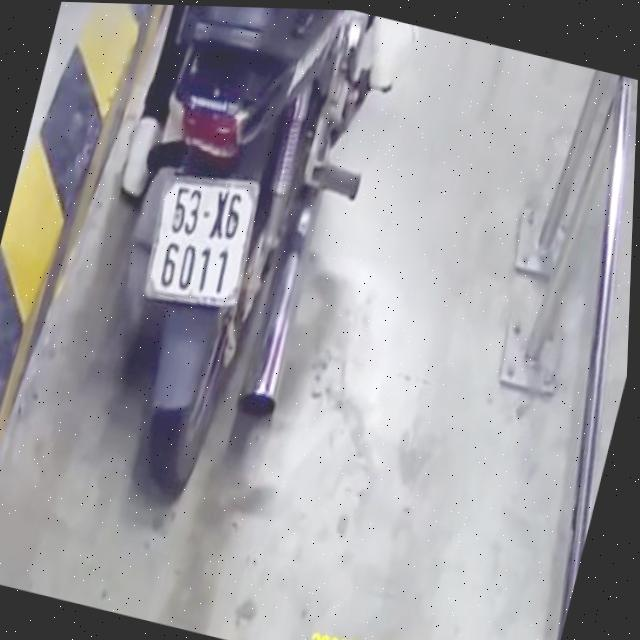motorcycle: (65, 2, 394, 531)
plate: (131, 159, 272, 323)
